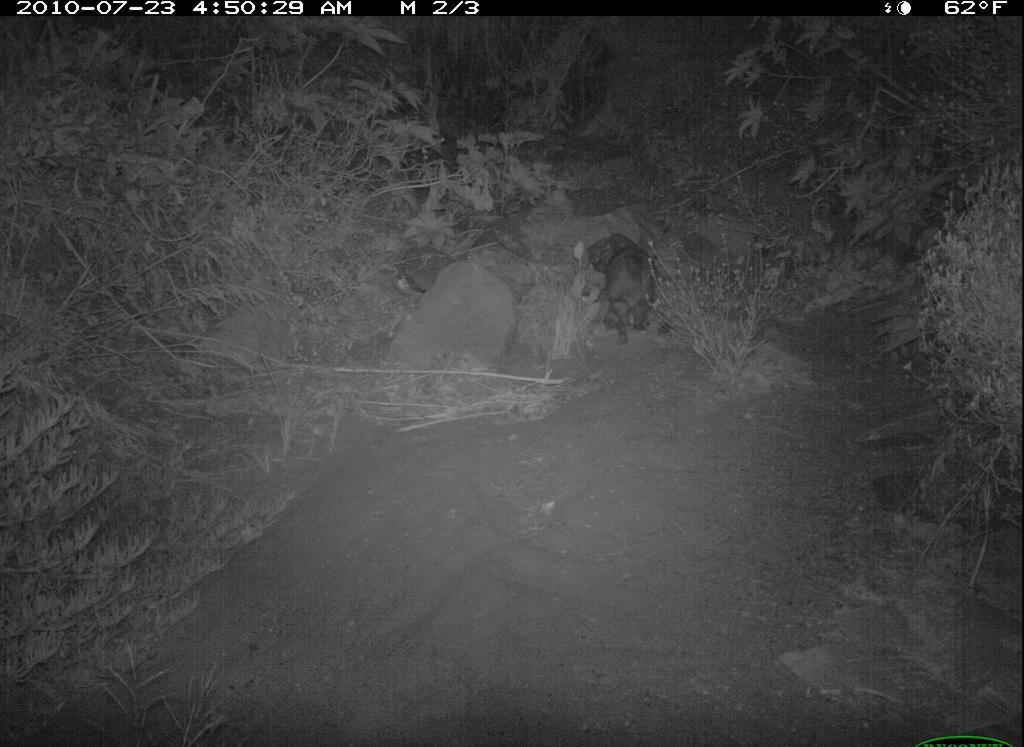raccoon: (585, 232, 666, 347)
